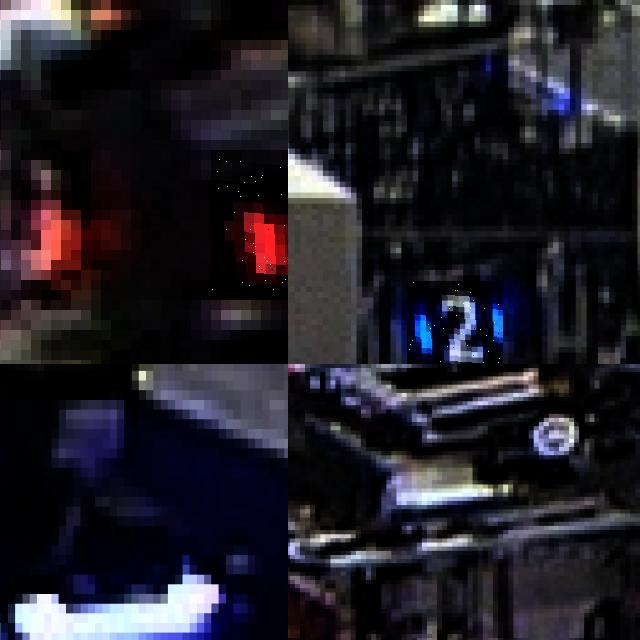B2: (407, 281, 503, 364)
R3: (211, 150, 288, 300)
